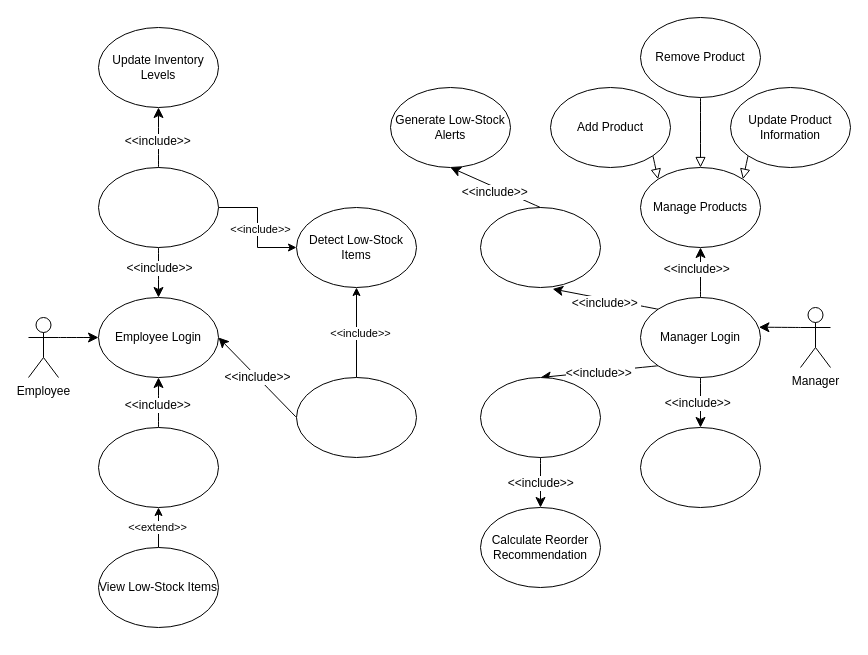
Some shapes in this 868 by 655 pixel diagram are drawn without their labels. The centre of each missing label's shape, as x and y in pixels:
"Approve Reorder Quanity" goes at (x=540, y=417).
"Record Sale" goes at (x=158, y=207).
"Update Product Stock" goes at (x=356, y=417).
"View Inventory" goes at (x=158, y=467).
"View Inventory Reports" goes at (x=700, y=467).
"View Low-stock Alerts" goes at (x=540, y=247).
